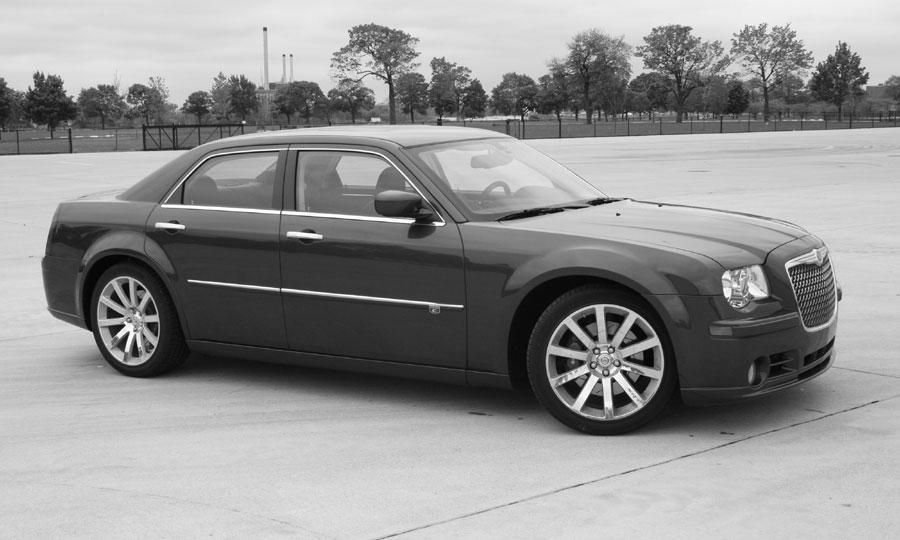car: (39, 123, 846, 436)
